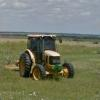Tractor: (14, 27, 75, 86)
